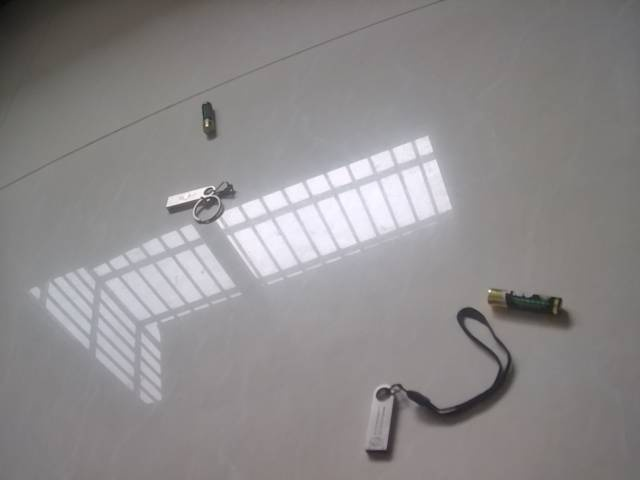U-disk: (359, 373, 503, 461), (164, 181, 239, 225)
battery: (485, 284, 568, 324), (198, 96, 223, 139)
